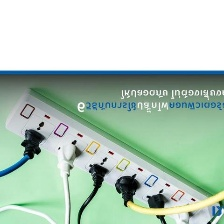three_eye_plug: (4, 86, 224, 224)
